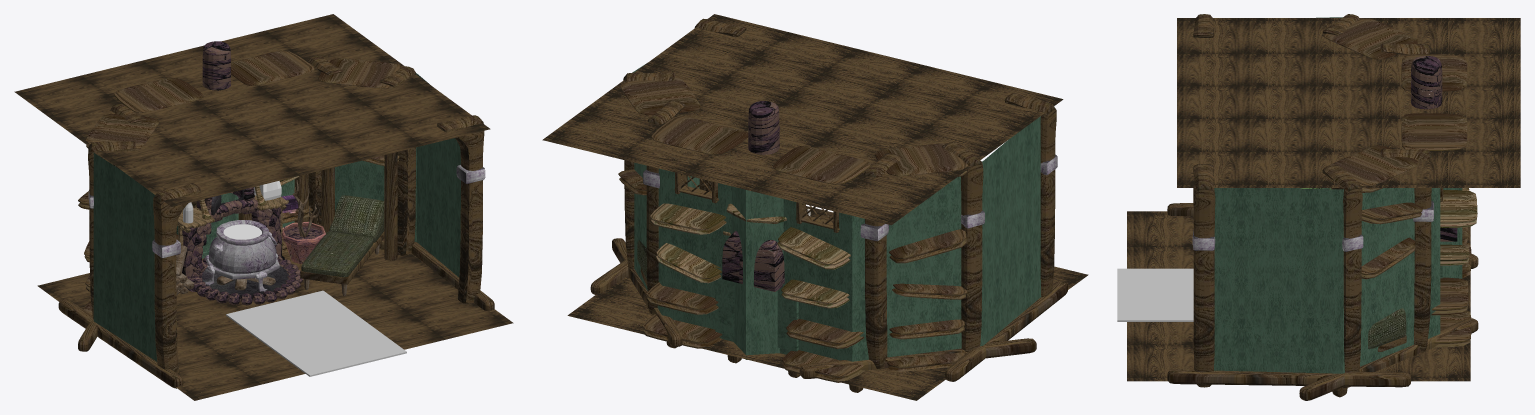
The model's file is Scene_witch2.fbx.
3 views of the same model, side by side, from view 1: azimuth 30°, elevation 25°; view 2: azimuth 150°, elevation 25°; view 3: azimuth 270°, elevation 25° (orthographic). The views are drawn at different scales.
Parts seen in each view (by area): view 1: Plane.004, Plane.002, Plane.003, Plane.001, Cube.061, Cube.055, Cube.067, Cube.058, Cube, Furnace_bottom, Cube.054, Cube.046 (+16 smaller); view 2: Plane.004, Plane.003, Plane.002, Cube.055, Cube.030, Cube.067, Furnace_Top, Cube.061, Cube.057, Cube.058, Cube.053, Cube.034 (+17 smaller); view 3: Plane.004, Plane.003, Plane.002, Cube.061, Plane.001, Cube.055, Cube.067, Cube.058, Cube.030, Cube.053, Cube.057, Furnace_Top (+8 smaller).
Part boxes in pixels (<box>): Plane.004: <box>14,14,490,206</box>; Plane.002: <box>37,249,513,400</box>; Plane.003: <box>93,73,460,361</box>; Plane.001: <box>226,290,406,376</box>; Cube.061: <box>153,115,484,374</box>; Cube.055: <box>88,66,415,318</box>; Cube.067: <box>85,58,402,150</box>; Cube.058: <box>58,242,494,388</box>; Cube: <box>209,220,276,273</box>; Furnace_bottom: <box>182,199,285,291</box>; Cube.054: <box>116,152,397,260</box>; Cube.046: <box>301,231,373,277</box>; Plane.004: <box>542,14,1063,225</box>; Plane.003: <box>632,63,1041,361</box>; Plane.002: <box>567,206,1088,400</box>; Cube.055: <box>623,72,983,351</box>; Cube.030: <box>646,100,902,369</box>; Cube.067: <box>620,75,968,176</box>; Furnace_Top: <box>722,101,784,291</box>; Cube.061: <box>694,18,1056,296</box>; Cube.057: <box>612,238,1036,378</box>; Cube.058: <box>590,259,1068,381</box>; Cube.053: <box>651,116,748,154</box>; Cube.034: <box>773,146,870,184</box>; Plane.004: <box>1177,18,1520,187</box>; Plane.003: <box>1214,17,1462,373</box>; Plane.002: <box>1127,211,1470,381</box>; Cube.061: <box>1193,14,1215,387</box>; Plane.001: <box>1117,268,1193,321</box>; Cube.055: <box>1322,14,1362,387</box>; Cube.067: <box>1322,18,1417,192</box>; Cube.058: <box>1167,203,1411,387</box>; Cube.030: <box>1380,43,1431,352</box>; Cube.053: <box>1401,113,1467,150</box>; Cube.057: <box>1299,253,1478,400</box>; Furnace_Top: <box>1411,56,1457,241</box>.
Bounding box in the file's own units: 1744 × 1042 × 1441.
